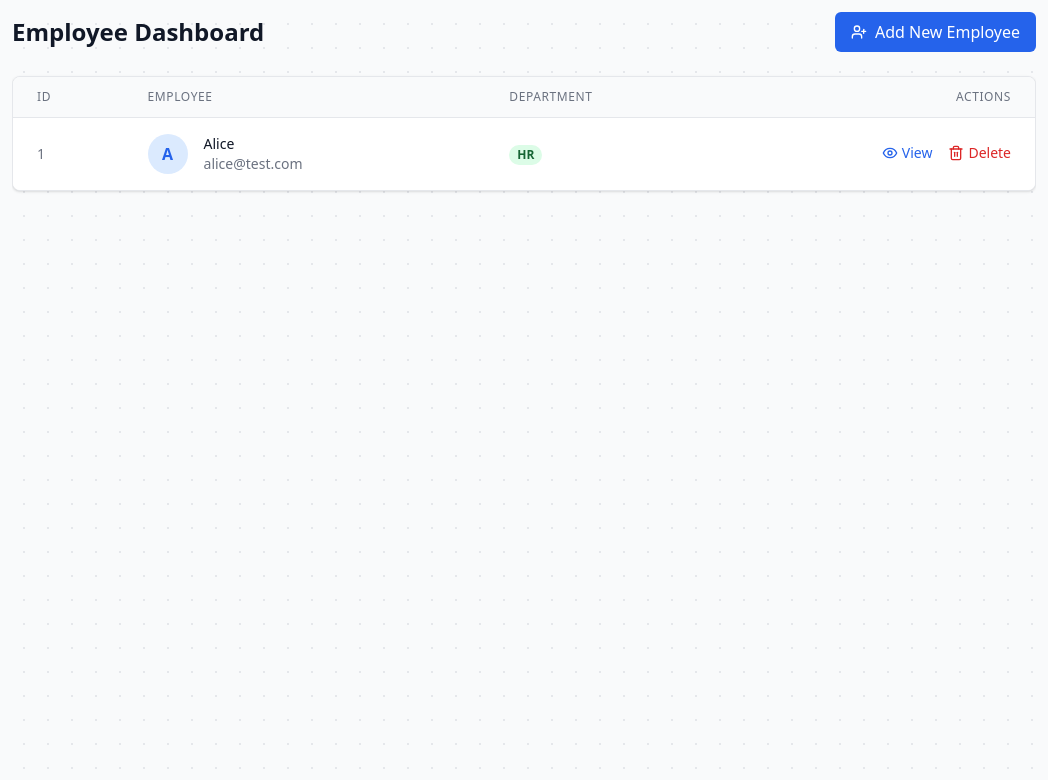
Test: Dashboard Component › deletes an employee
Expected: the text "Alice" is shown, [204,134,234,153]
Note: Find delete button
What coordinates should you click on to do the following:
click the button "Delete"
I would click on:
 (980, 152)
Its box is [948,142,1011,162].
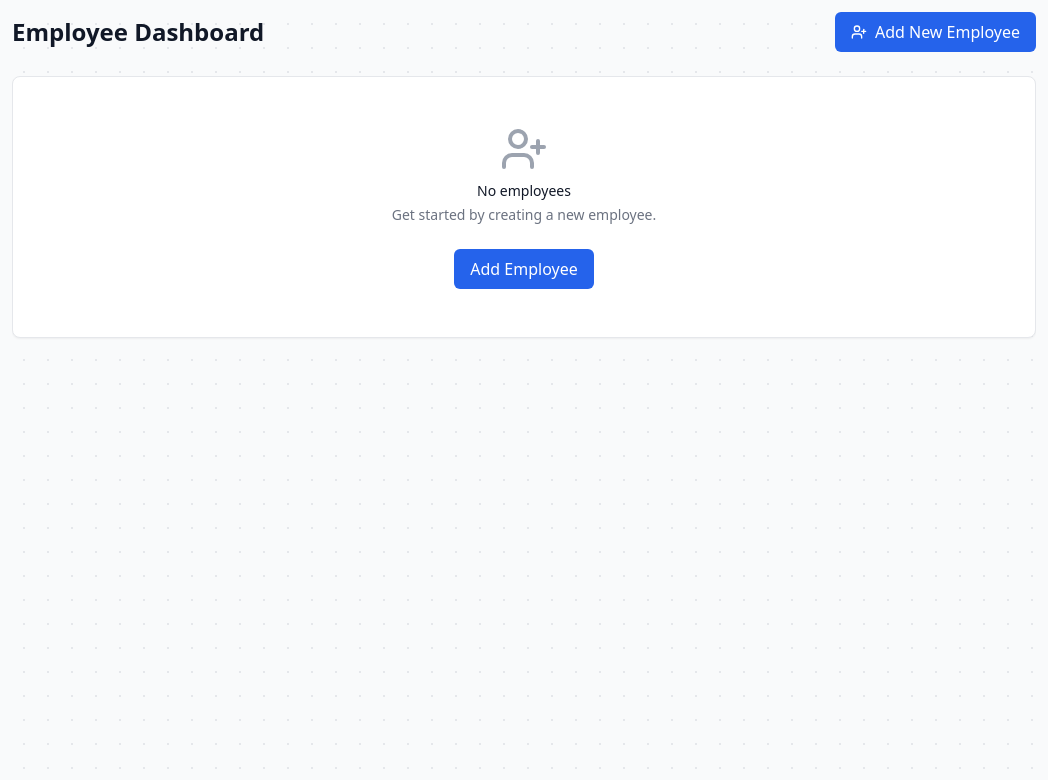
Expected: the text "Alice" is gone
